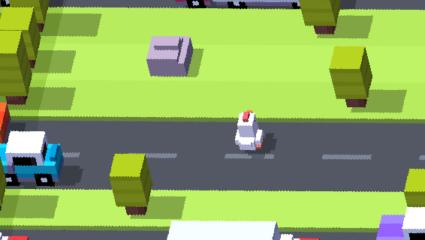hen: (233, 111, 264, 151)
obstacle: (8, 132, 64, 187), (328, 47, 369, 108), (111, 154, 150, 216), (0, 33, 32, 105), (0, 7, 41, 60), (169, 221, 280, 240), (146, 35, 192, 77), (300, 0, 340, 34), (2, 0, 48, 28), (175, 0, 304, 9), (404, 169, 425, 207), (405, 206, 425, 239), (380, 215, 404, 237)
